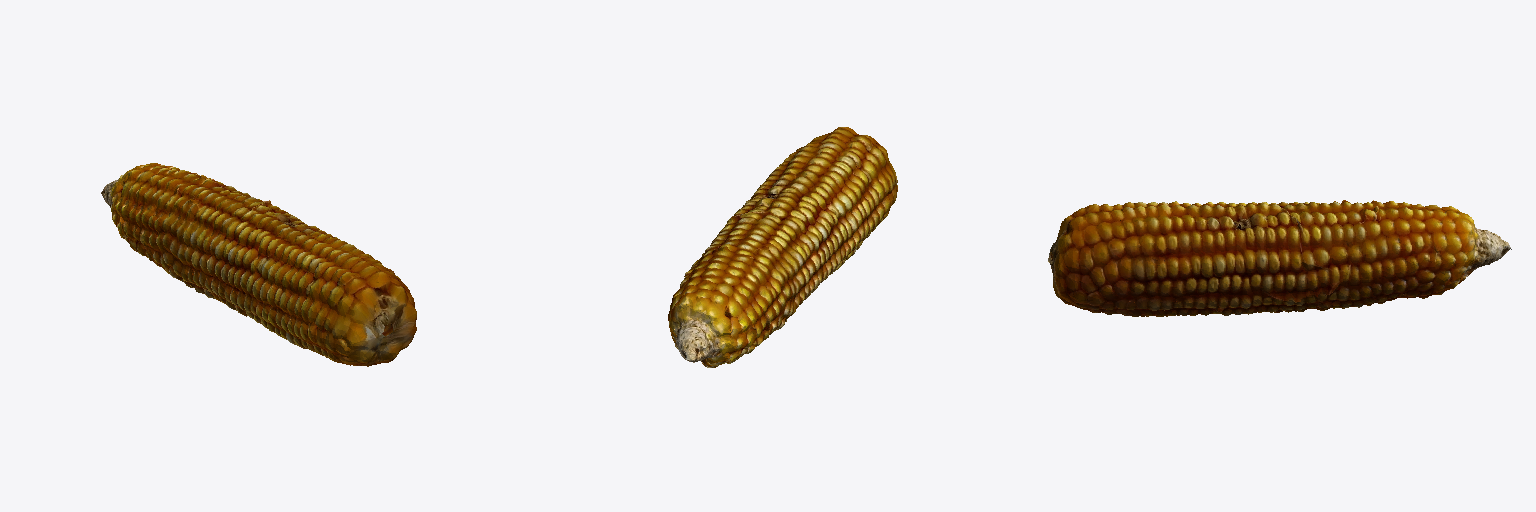
3 renders of one model, left to right at view 1: azimuth 30°, elevation 25°; view 2: azimuth 150°, elevation 25°; view 3: azimuth 270°, elevation 25°, orthographic.
Parts seen in each view (by area): view 1: Model; view 2: Model; view 3: Model.
Part boxes in pixels (left/top/right/bottom): Model: left=101, top=163, right=416, bottom=366; Model: left=668, top=127, right=897, bottom=367; Model: left=1048, top=200, right=1511, bottom=316.
Bounding box in the file's own units: 3.14 × 2.59 × 10.1.
1 materials, 1 textured.